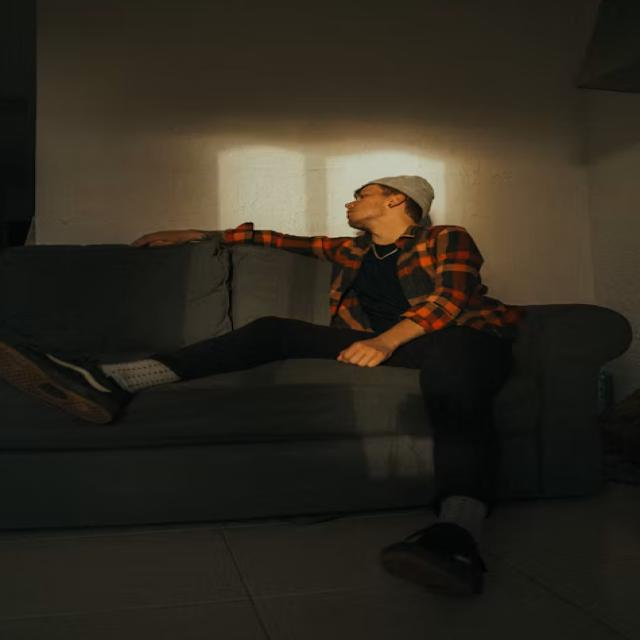Edited images: (74, 168, 556, 604)
